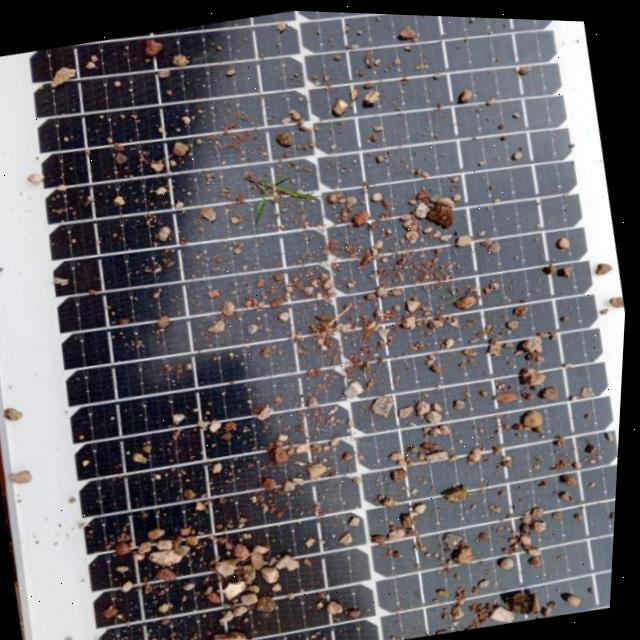Surface Contaminant: (0, 8, 627, 640)
